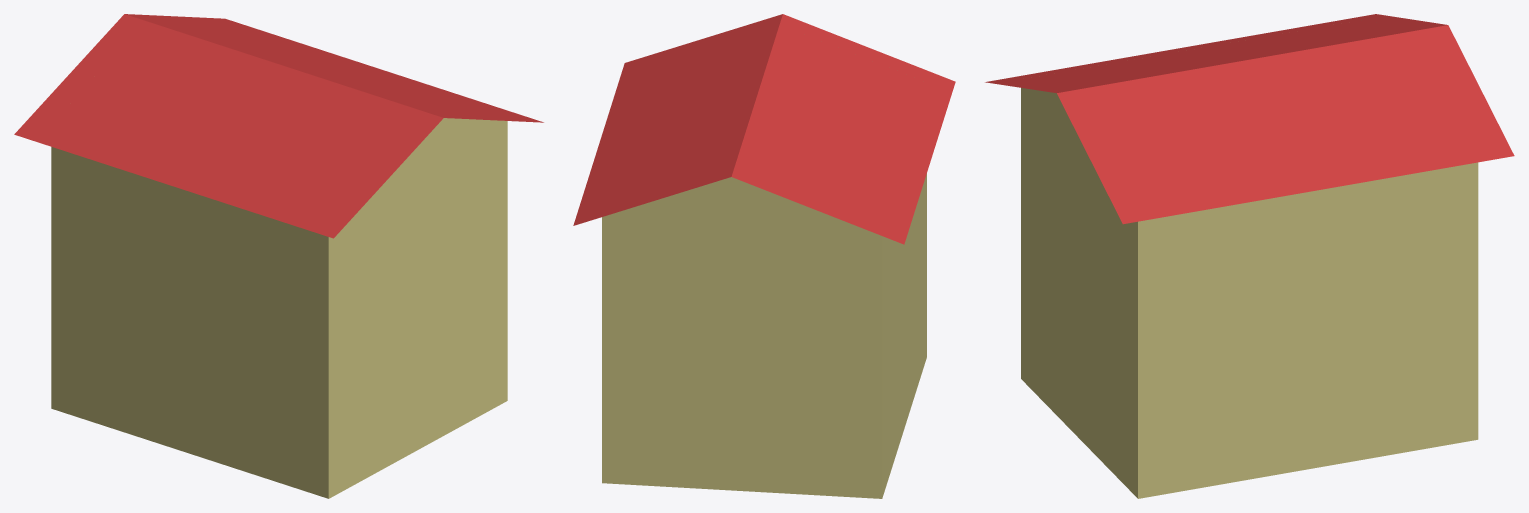
3 views of the same model, side by side, from view 1: azimuth 30°, elevation 25°; view 2: azimuth 150°, elevation 25°; view 3: azimuth 270°, elevation 25° (orthographic). The views are drawn at different scales.
Size of the model in its own units: 8.91 by 9.5 by 6.98.
